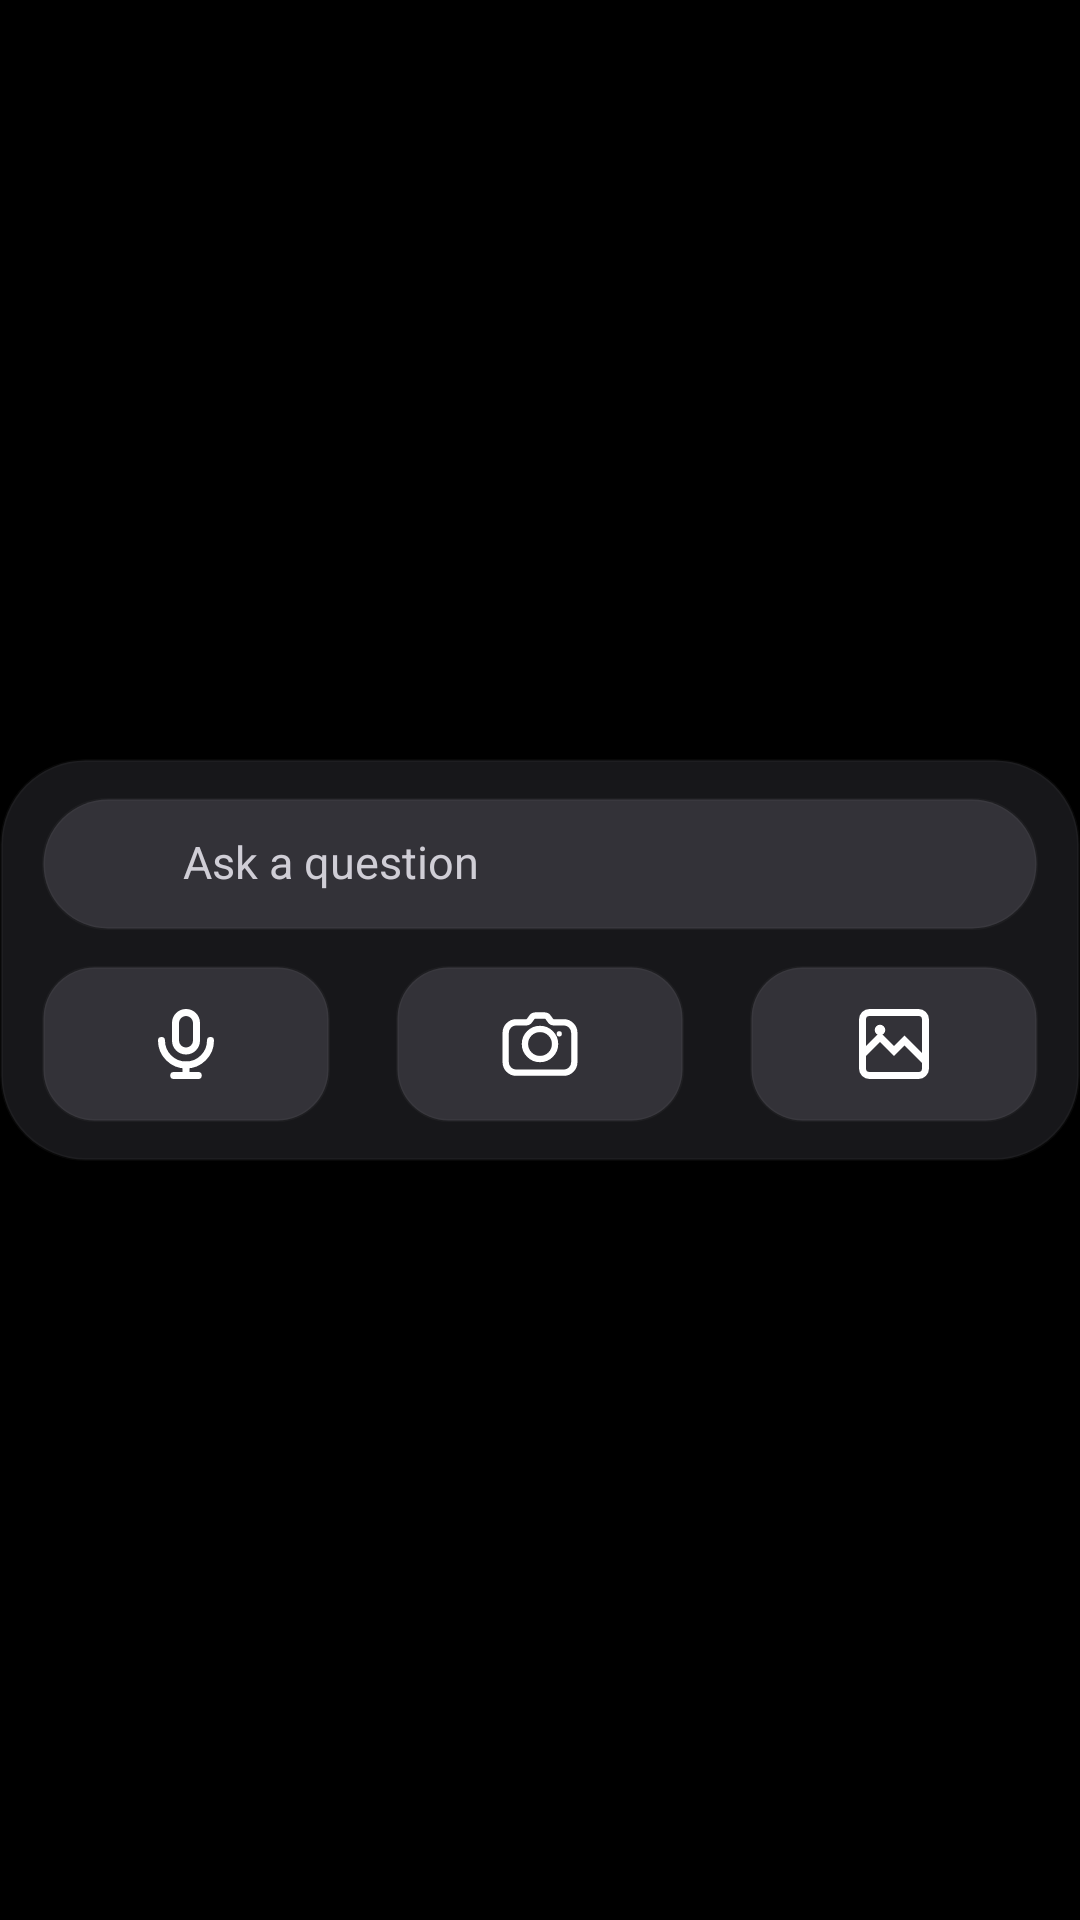

Locate icon controls on the screen. Image size 1080*1920, boxes as (x1, y1, x2, y2).
Camera: (397, 967, 683, 1121)
Microphone: (43, 967, 329, 1121)
Open gallery: (751, 967, 1037, 1121)
